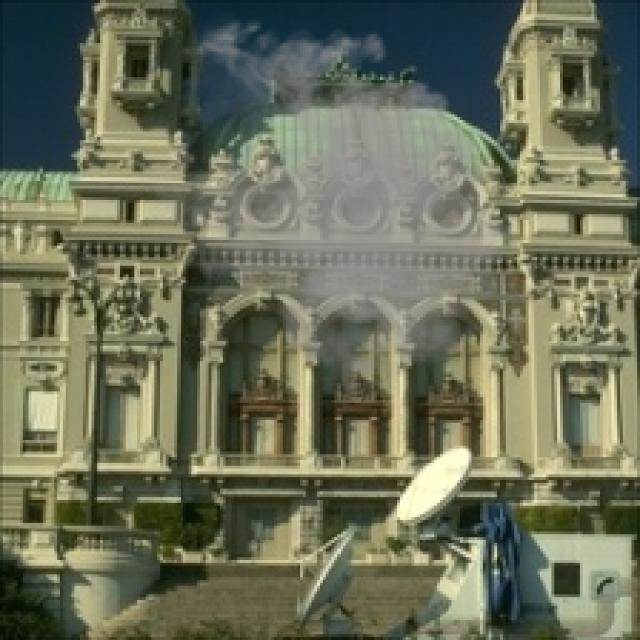smoke: (132, 9, 532, 400)
